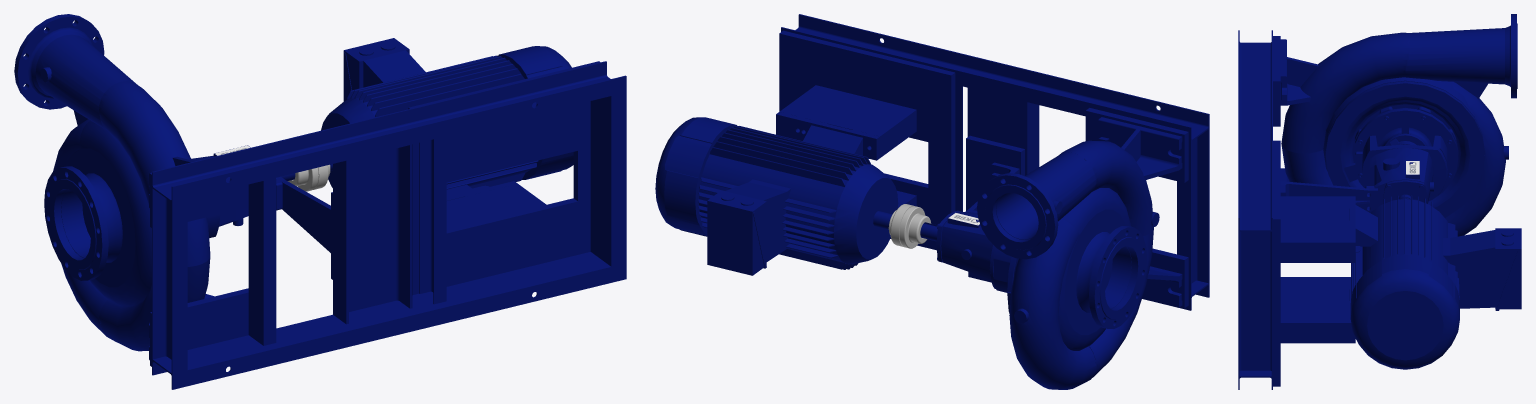
Rendered from pump.dae.
The picture shows the model from 3 angles, left to right: view 1: azimuth 30°, elevation 25°; view 2: azimuth 150°, elevation 25°; view 3: azimuth 270°, elevation 25°; orthographic projection. The views are drawn at different scales.
Visible parts, largest first — view 1: _Baseplate_G_ISO_10000222_0, _12TEtanorm_r_vol10000212_0, _Standard_Motor_D10000214_0, _Standatd_flange_10000220_0, _Standatd_flange_10000221_0, _etanorm_r_suppor10000217_0, _Etanorm_r_bearin10000216_0, _Standard_couplin10000213_0; view 2: _Baseplate_G_ISO_10000222_0, _Standard_Motor_D10000214_0, _12TEtanorm_r_vol10000212_0, _Standatd_flange_10000221_0, _Standatd_flange_10000220_0, _Etanorm_r_bearin10000216_0, _Standard_couplin10000213_0; view 3: _Standard_Motor_D10000214_0, _12TEtanorm_r_vol10000212_0, _Baseplate_G_ISO_10000222_0, _TEtanorm_R_casin10000215_0, _Etanorm_r_bearin10000216_0, _etanorm_r_suppor10000217_0, _Standatd_flange_10000221_0.
Boxes of the visible parts, bbox=[...] form: _Baseplate_G_ISO_10000222_0: bbox=[150, 61, 626, 389]; _12TEtanorm_r_vol10000212_0: bbox=[28, 27, 214, 360]; _Standard_Motor_D10000214_0: bbox=[321, 38, 573, 228]; _Standatd_flange_10000220_0: bbox=[44, 166, 108, 280]; _Standatd_flange_10000221_0: bbox=[14, 14, 104, 109]; _etanorm_r_suppor10000217_0: bbox=[277, 176, 330, 252]; _Etanorm_r_bearin10000216_0: bbox=[191, 145, 282, 237]; _Standard_couplin10000213_0: bbox=[288, 164, 330, 191]; _Baseplate_G_ISO_10000222_0: bbox=[779, 14, 1209, 310]; _Standard_Motor_D10000214_0: bbox=[655, 85, 916, 275]; _12TEtanorm_r_vol10000212_0: bbox=[996, 117, 1182, 389]; _Standatd_flange_10000221_0: bbox=[977, 173, 1058, 259]; _Standatd_flange_10000220_0: bbox=[1089, 226, 1146, 328]; _Etanorm_r_bearin10000216_0: bbox=[936, 210, 1011, 292]; _Standard_couplin10000213_0: bbox=[888, 204, 931, 248]; _Standard_Motor_D10000214_0: bbox=[1280, 195, 1521, 369]; _12TEtanorm_r_vol10000212_0: bbox=[1280, 25, 1510, 236]; _Baseplate_G_ISO_10000222_0: bbox=[1238, 30, 1280, 389]; _TEtanorm_R_casin10000215_0: bbox=[1325, 81, 1484, 217]; _Etanorm_r_bearin10000216_0: bbox=[1355, 108, 1458, 208]; _etanorm_r_suppor10000217_0: bbox=[1280, 181, 1377, 212]; _Standatd_flange_10000221_0: bbox=[1511, 14, 1517, 98].
Bounding box in the file's own units: 1925 × 1036 × 1136.
